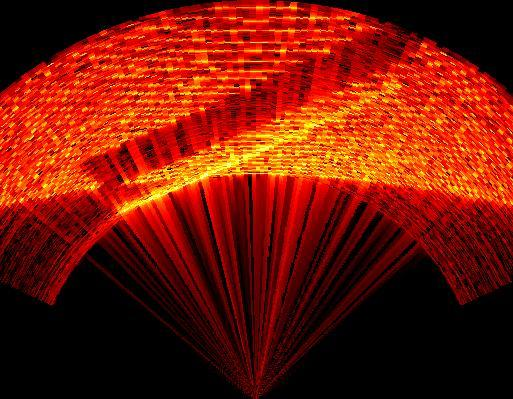pipe: (80, 24, 422, 192)
